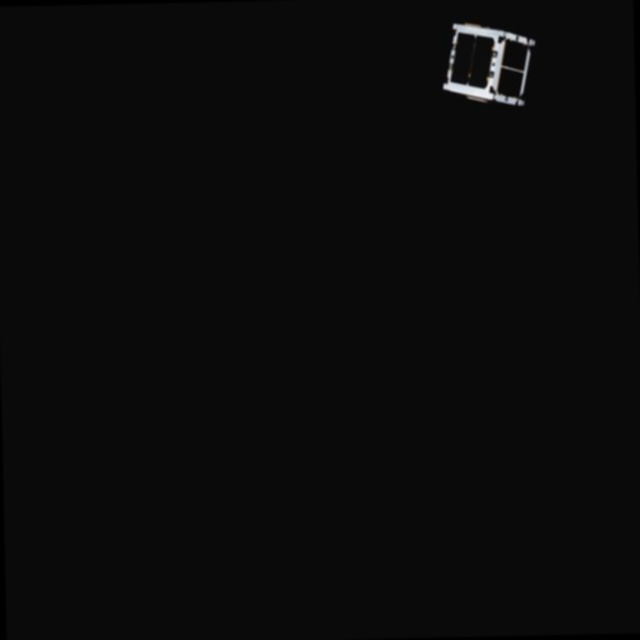satellite: (437, 24, 543, 114)
